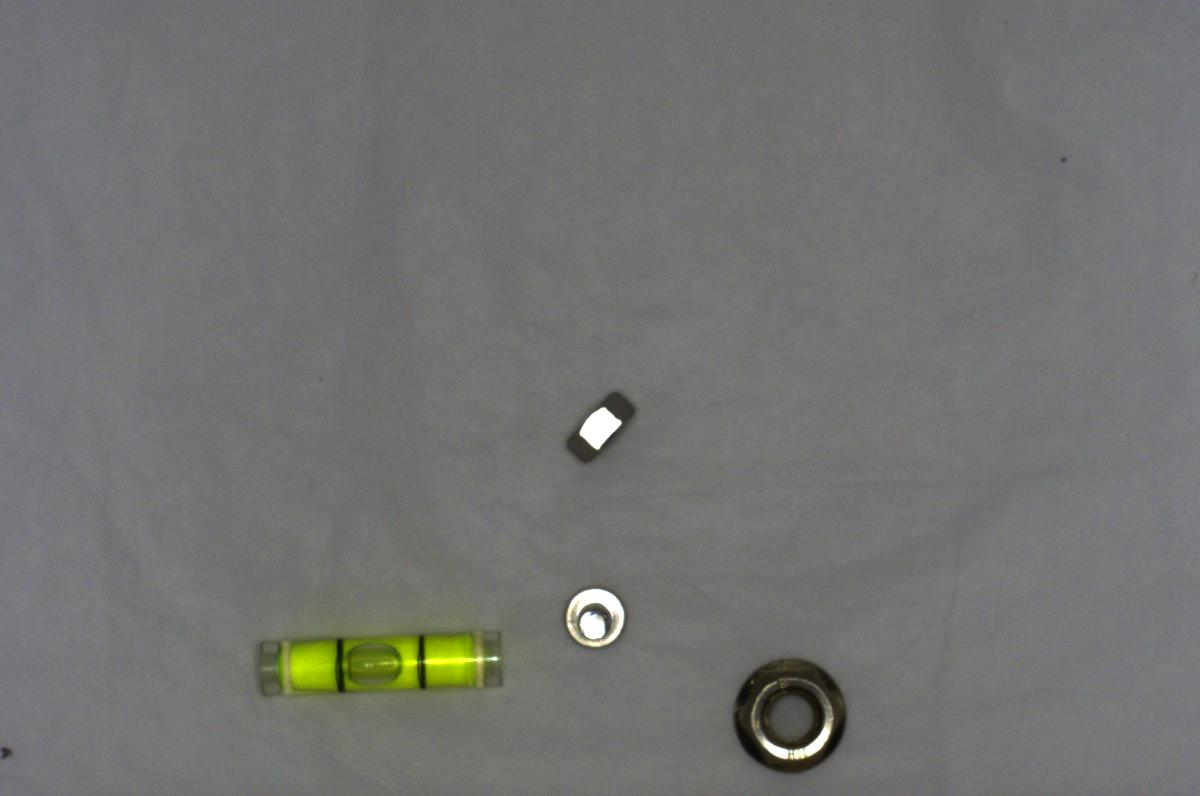Flange nut: (715, 648, 866, 778)
Hexagon nut: (554, 383, 644, 458)
Horizontal bubble: (246, 626, 514, 698)
Round head screw: (548, 576, 634, 660)
